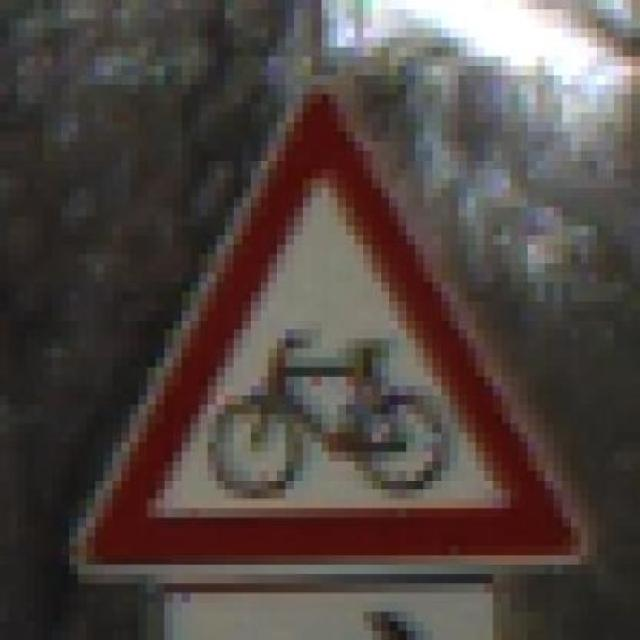CYCLE ROUTE AHEAD WARNING: (52, 75, 606, 574)
